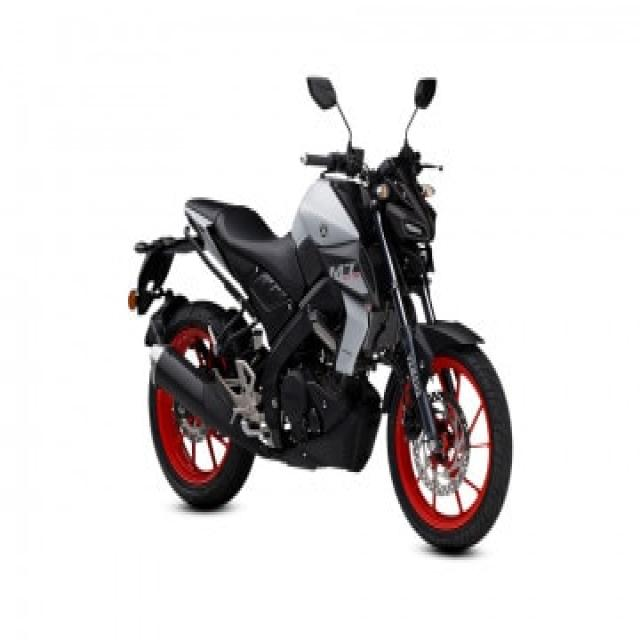bike: (126, 73, 513, 556)
